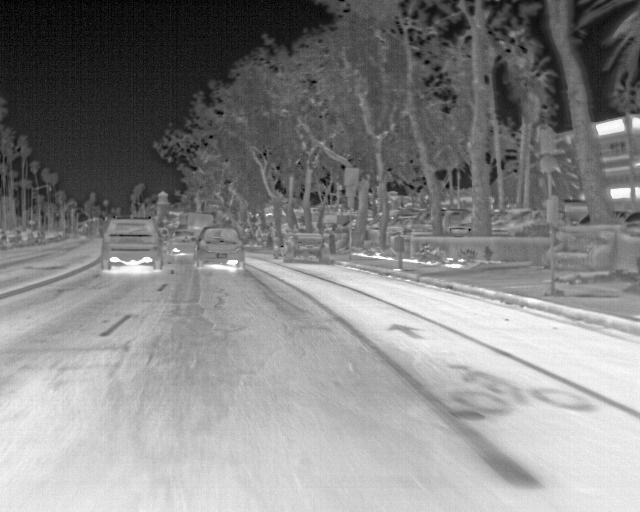bicycle: (99, 217, 162, 272), (194, 221, 246, 267)
